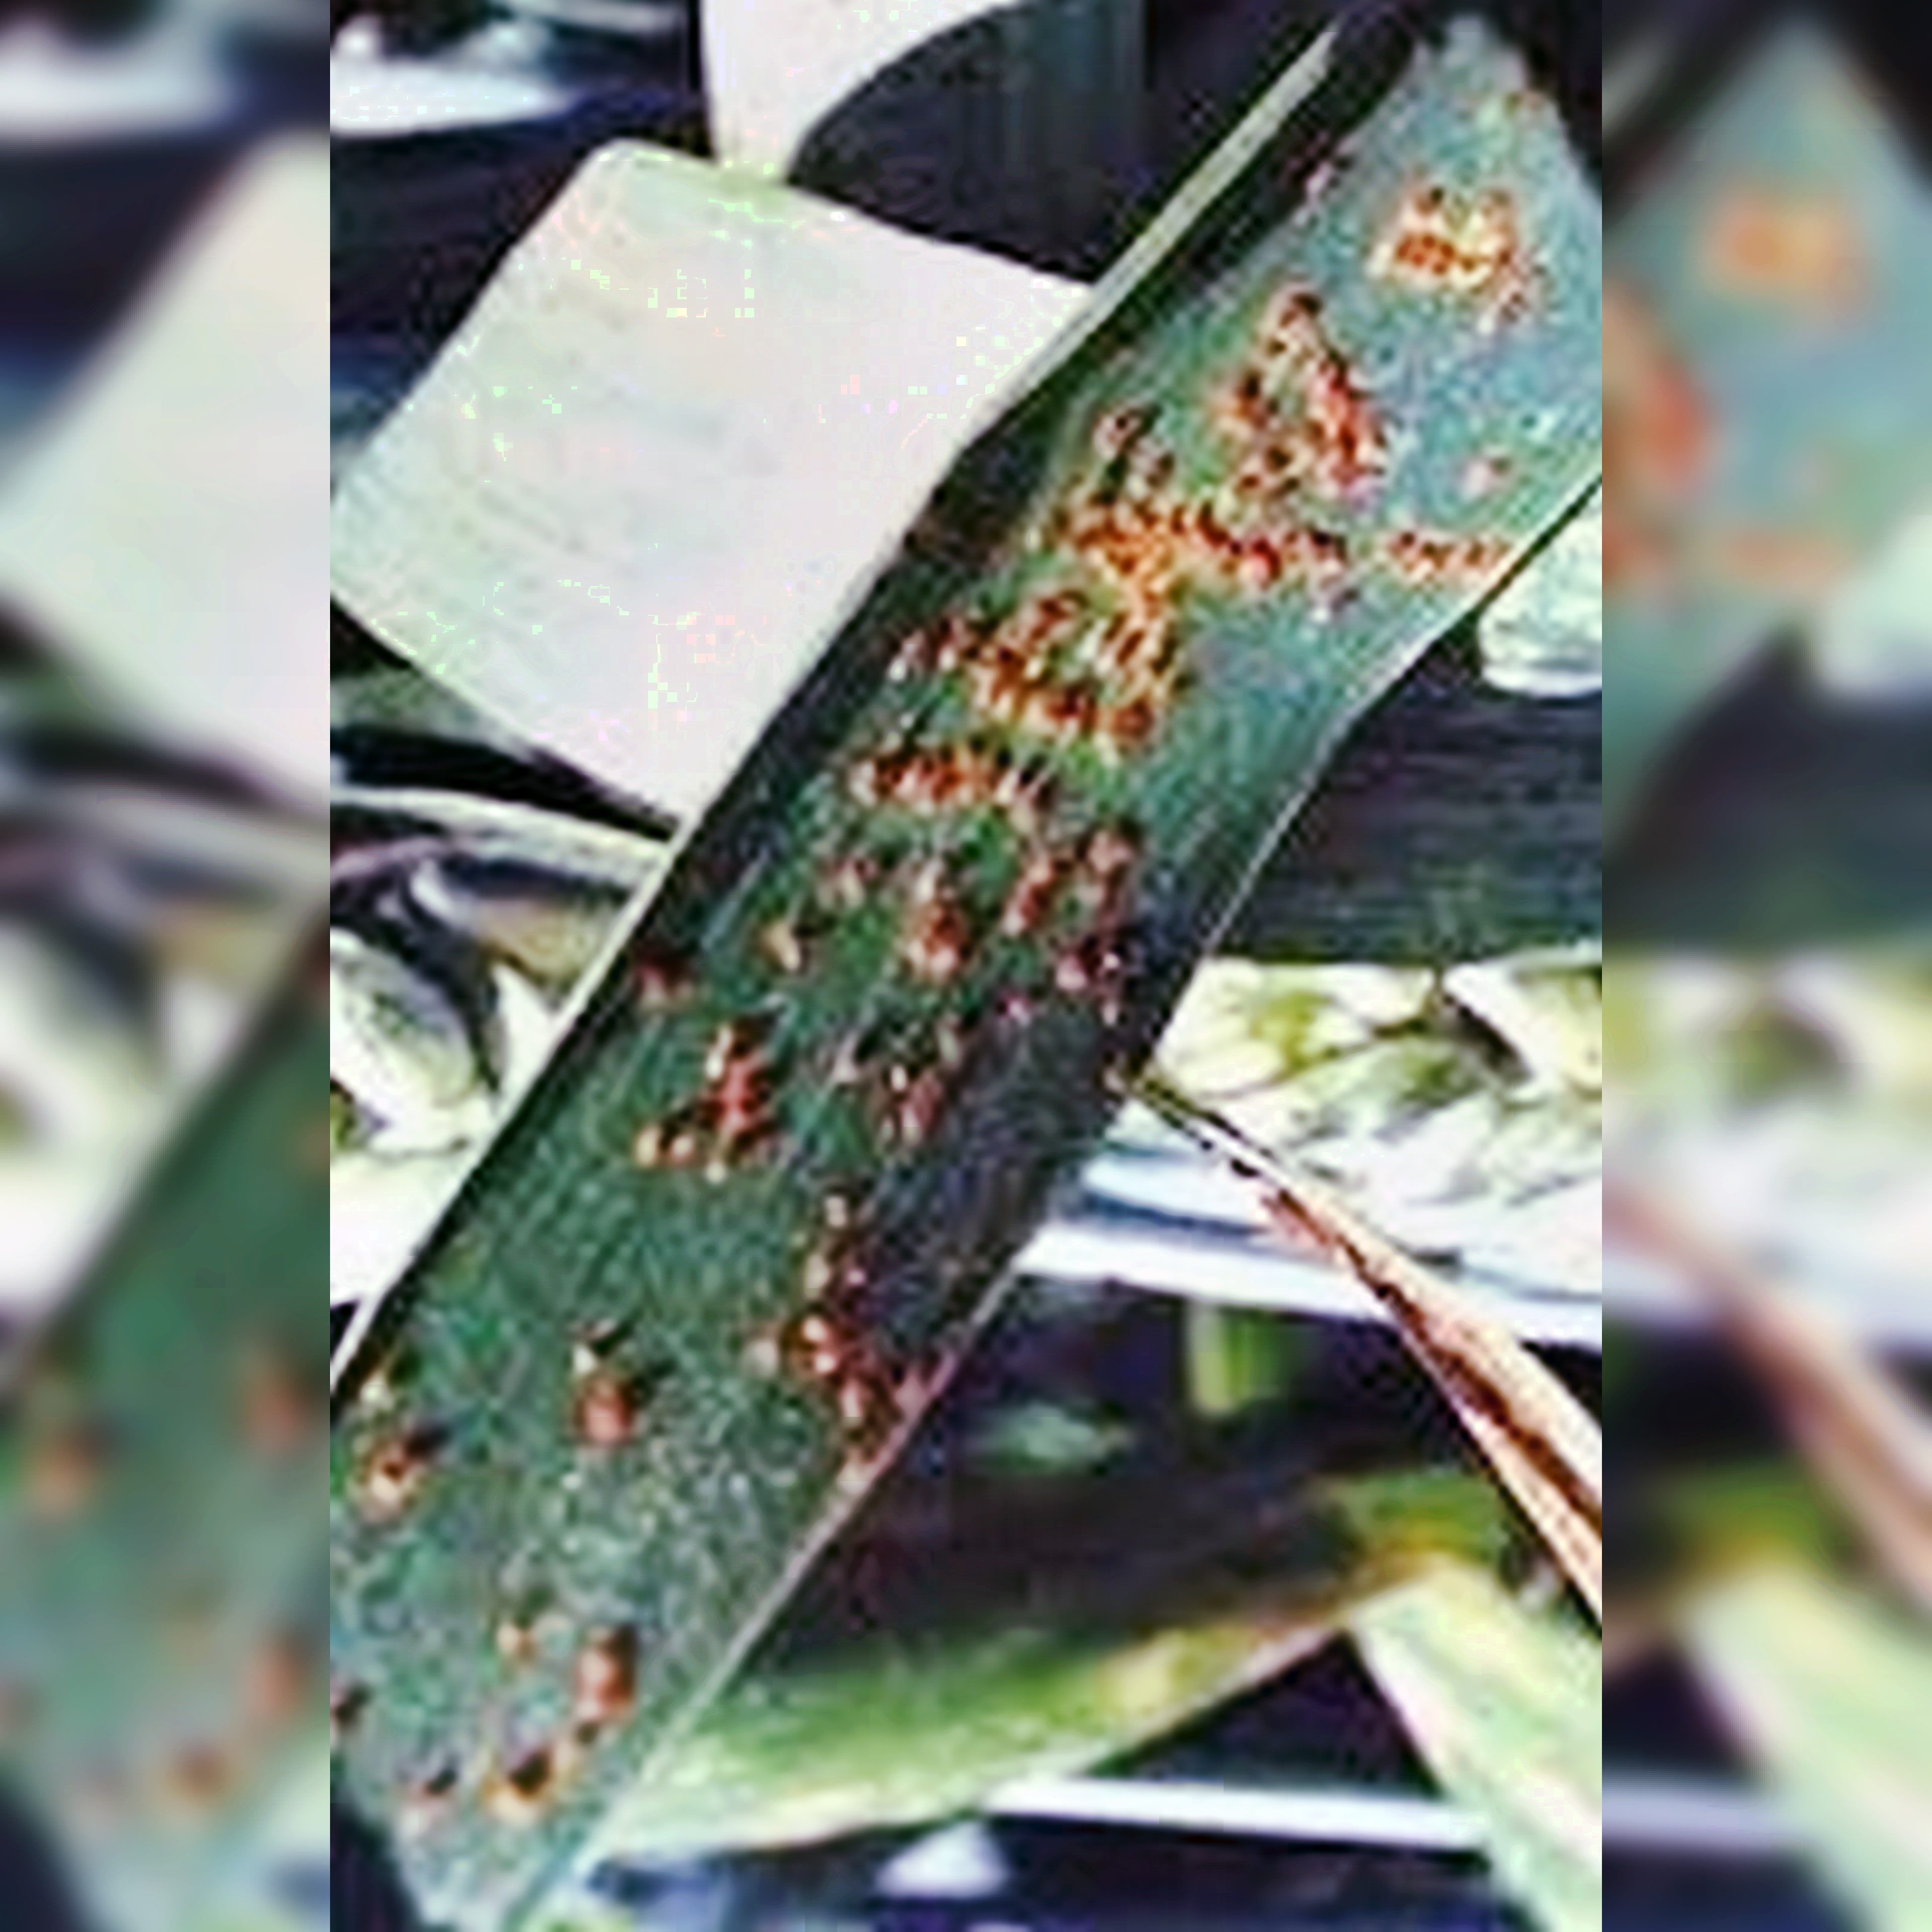Leaf Rust: (561, 234, 1499, 1576)
